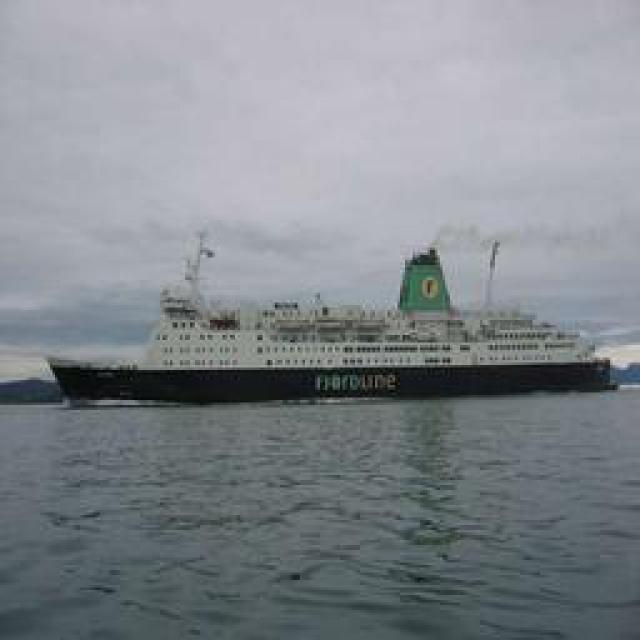Ship: (54, 231, 599, 409)
